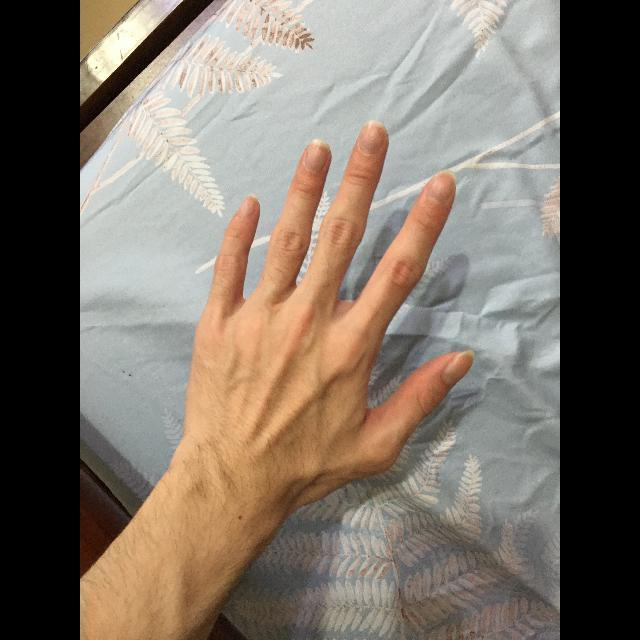bare_hand: (184, 120, 477, 486)
